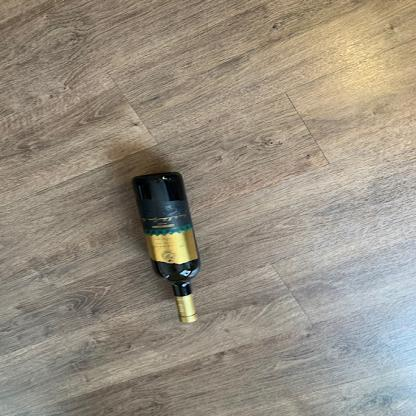trash: (134, 169, 209, 326)
